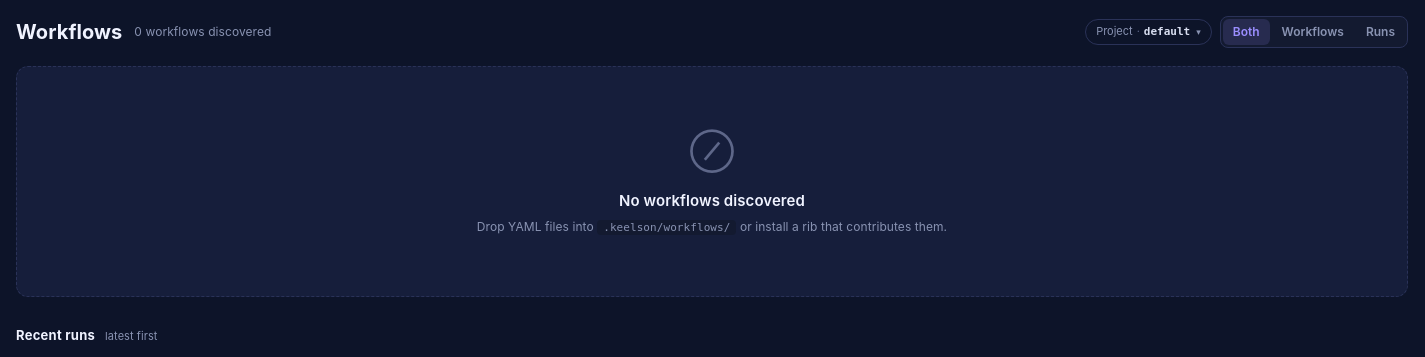
Test: Workflows view-mode rendering › selecting 'Workflows' shows the catalog and hides Recent runs
Expected: the element showing "Both Workflows Runs" is shown, x1=1220 y1=16 x2=1408 y2=48
Step 1. Click the radio button labelled "Workflows" → coordinates (1313, 32), box x1=1272 y1=19 x2=1354 y2=45
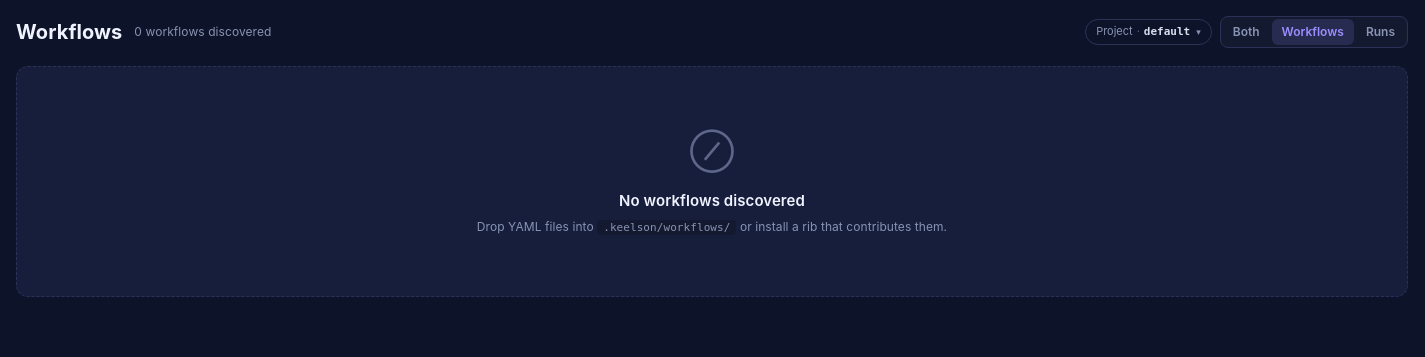
Expected: the text "No workflows discovered" is shown, x1=619 y1=191 x2=805 y2=210
Expected: the heading "Recent runs" is gone
